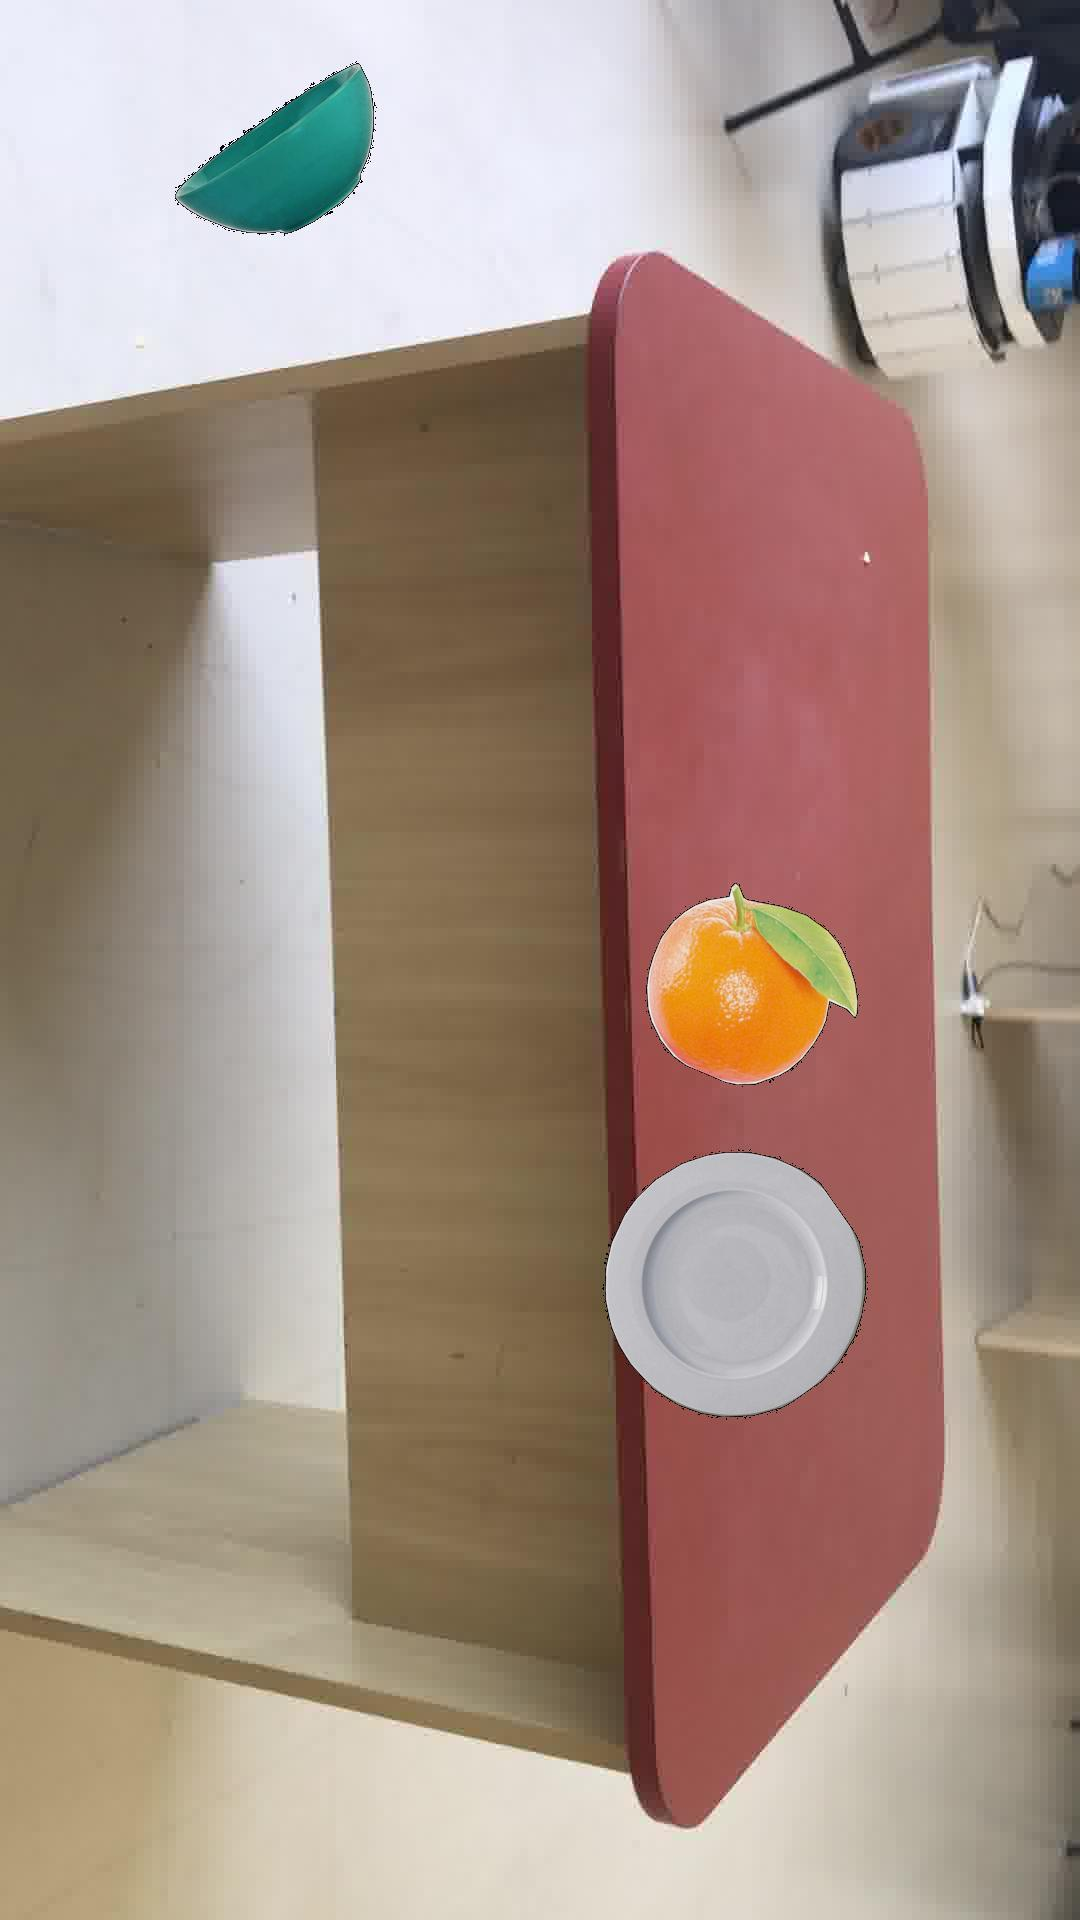bowl: (174, 62, 373, 235)
orange: (646, 881, 857, 1084)
plate: (603, 1150, 865, 1416)
